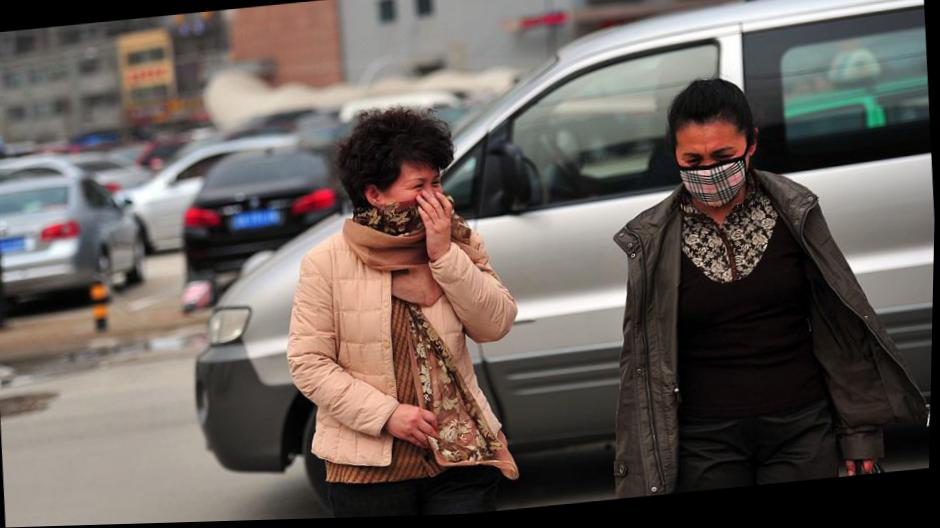OK: (679, 143, 751, 215)
WRONG: (373, 163, 447, 239)
